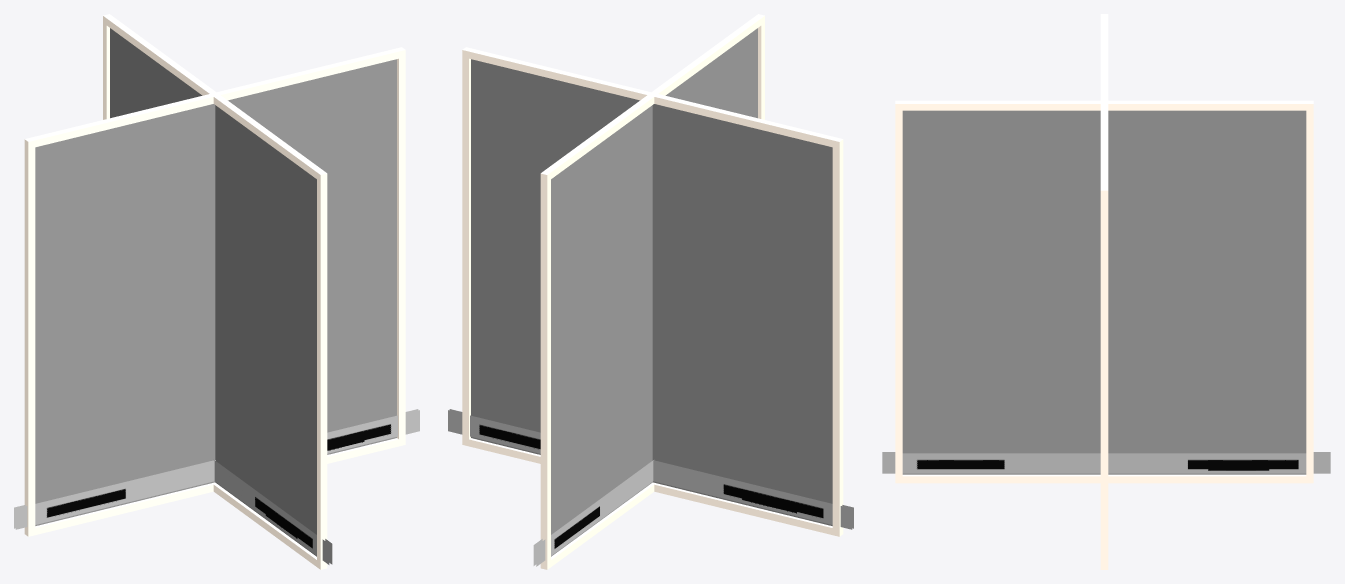
Rendered from DG-Manic Improv.fbx.
The picture shows the model from 3 angles, left to right: view 1: azimuth 30°, elevation 25°; view 2: azimuth 150°, elevation 25°; view 3: azimuth 270°, elevation 25°; orthographic projection. The views are drawn at different scales.
Visible parts, largest first — view 1: Paint_back, Paint_front, Paint_front_1, Paint_back_1, DG2021_front, FrameL, FrameT, FrameL_1, FrameR, FrameT_1, FrameB, DG2021_back_1 (+2 smaller); view 2: Paint_back, Paint_front, Paint_back_1, Paint_front_1, DG2021_back, FrameL, FrameT, FrameR_1, FrameR, FrameT_1, FrameB, DG2021_back_1 (+2 smaller); view 3: Paint_front_1, Paint_back_1, DG2021_front_1, FrameT_1, FrameB_1, FrameR, FrameL_1, FrameR_1, FrameT.
Boxes of the visible parts, left/top/right/bottom form: Paint_back: left=35, top=60, right=396, bottom=525; Paint_front: left=35, top=59, right=396, bottom=525; Paint_front_1: left=110, top=28, right=316, bottom=556; Paint_back_1: left=110, top=30, right=316, bottom=556; DG2021_front: left=15, top=410, right=419, bottom=529; FrameL: left=24, top=146, right=35, bottom=529; FrameT: left=24, top=47, right=405, bottom=148; FrameL_1: left=317, top=179, right=327, bottom=562; FrameR: left=397, top=57, right=405, bottom=439; FrameT_1: left=103, top=14, right=327, bottom=181; FrameB: left=24, top=438, right=405, bottom=536; DG2021_back_1: left=214, top=460, right=329, bottom=564; Paint_back: left=471, top=59, right=832, bottom=525; Paint_front: left=471, top=59, right=832, bottom=525; Paint_back_1: left=551, top=29, right=757, bottom=556; Paint_front_1: left=551, top=28, right=757, bottom=556; DG2021_back: left=448, top=410, right=852, bottom=529; FrameL: left=832, top=146, right=843, bottom=529; FrameT: left=462, top=47, right=843, bottom=148; FrameR_1: left=540, top=179, right=550, bottom=562; FrameR: left=462, top=57, right=470, bottom=439; FrameT_1: left=540, top=14, right=764, bottom=181; FrameB: left=462, top=438, right=843, bottom=536; DG2021_back_1: left=536, top=460, right=653, bottom=566; Paint_front_1: left=902, top=110, right=1306, bottom=474; Paint_back_1: left=902, top=110, right=1306, bottom=474; DG2021_front_1: left=882, top=453, right=1330, bottom=473; FrameT_1: left=895, top=100, right=1313, bottom=110; FrameB_1: left=895, top=474, right=1313, bottom=483; FrameR: left=1100, top=197, right=1108, bottom=563; FrameL_1: left=895, top=110, right=902, bottom=476; FrameR_1: left=1306, top=110, right=1313, bottom=476; FrameT: left=1100, top=14, right=1108, bottom=197.
Size of the model in its own units: 300 by 280 by 300.
